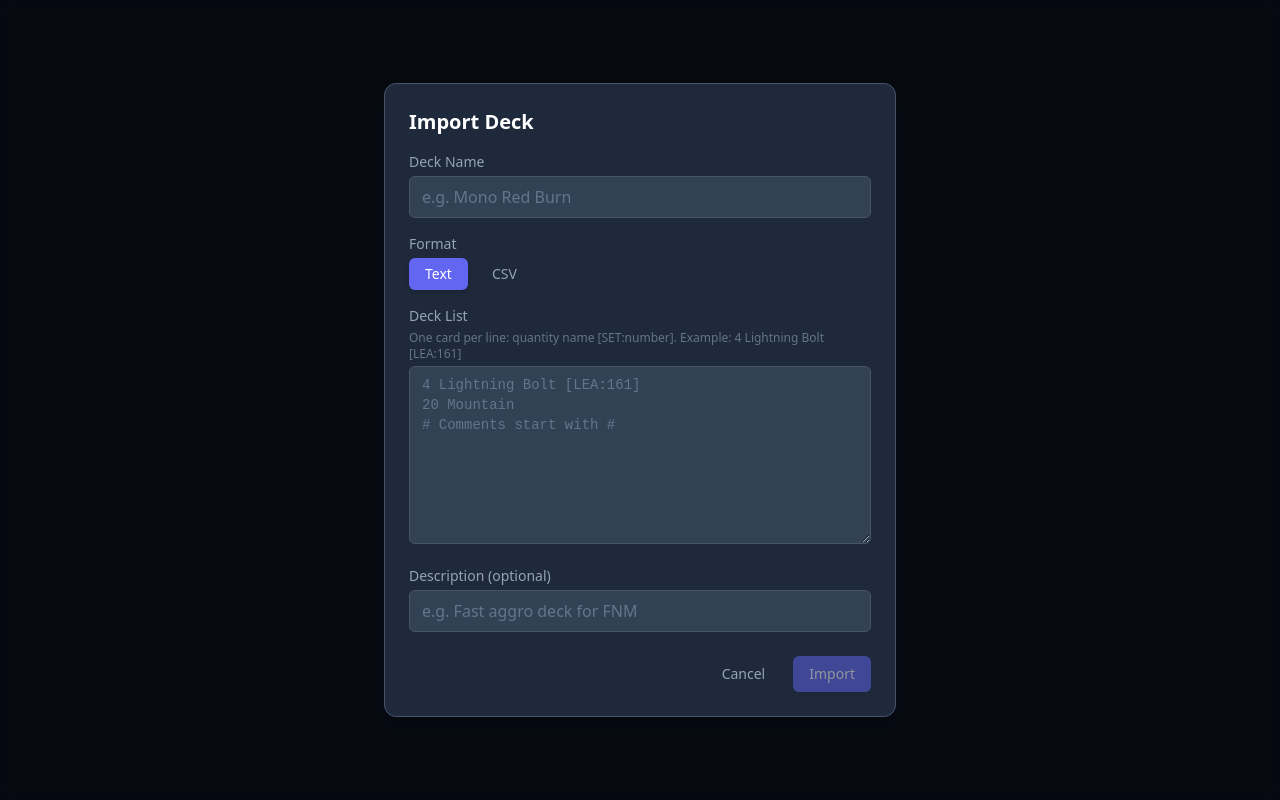
Test: DeckImportModal › shows error on API failure
The image size is (1280, 800).
In the field with test id "deck-name-input": x=640, y=197 409,176 -> 871,218, type "My Deck"
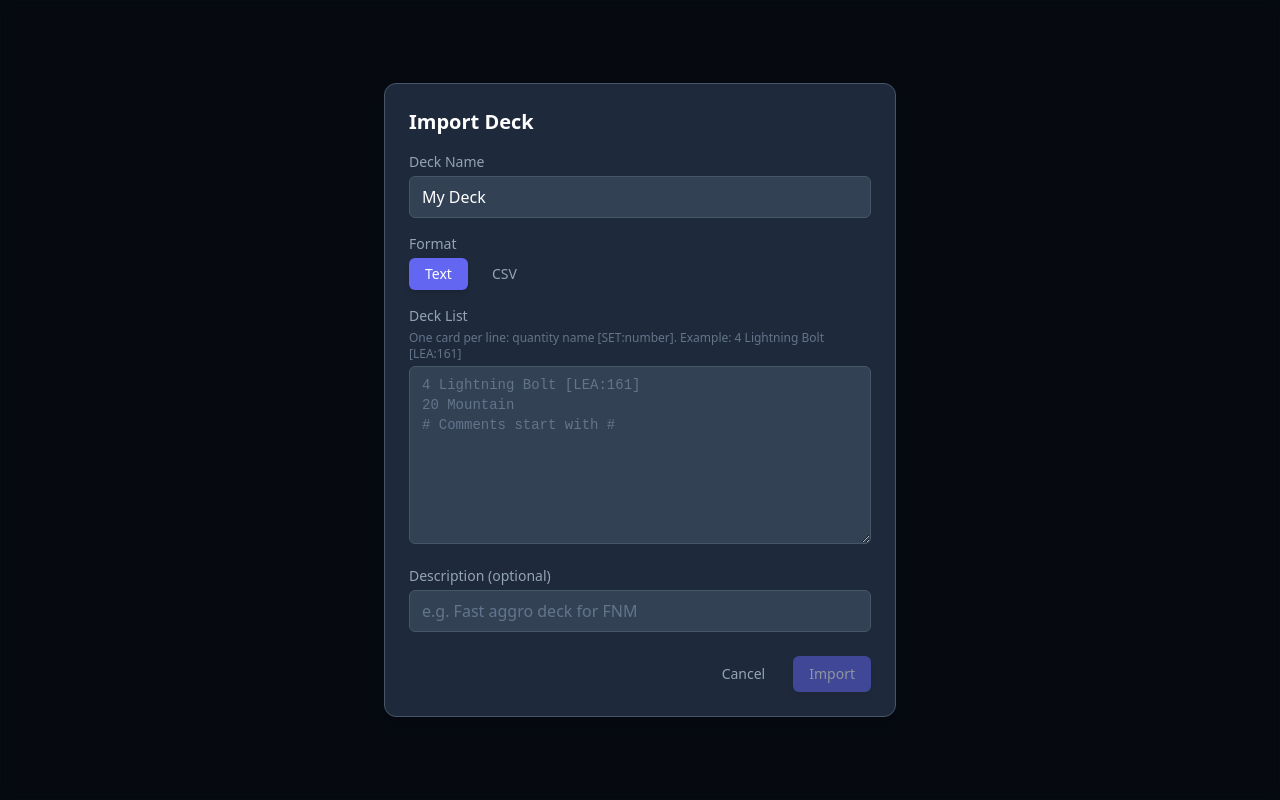
Replace the text in the text box with test id "deck-content-input" with "4 Bolt": x=640, y=455 409,366 -> 871,544
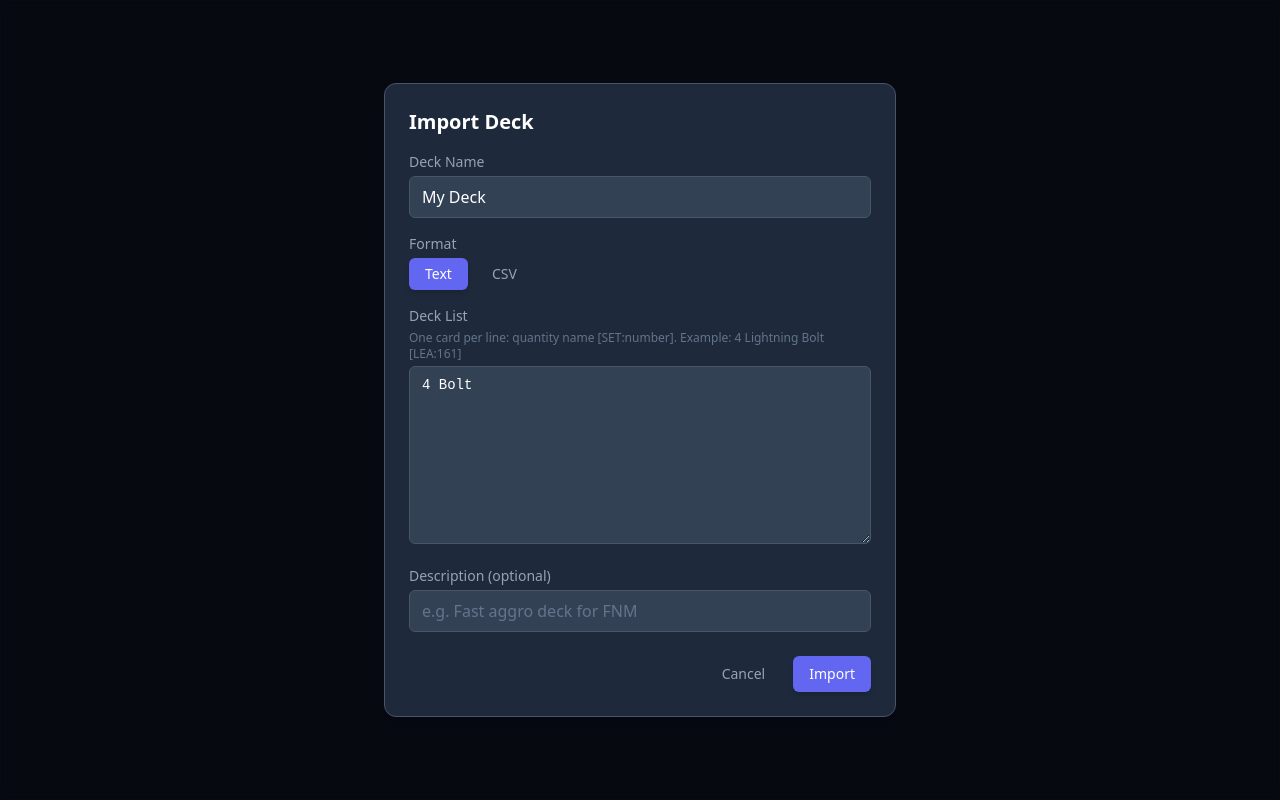
Click the button with test id "submit-import-btn": x=832, y=674 793,656 -> 871,692
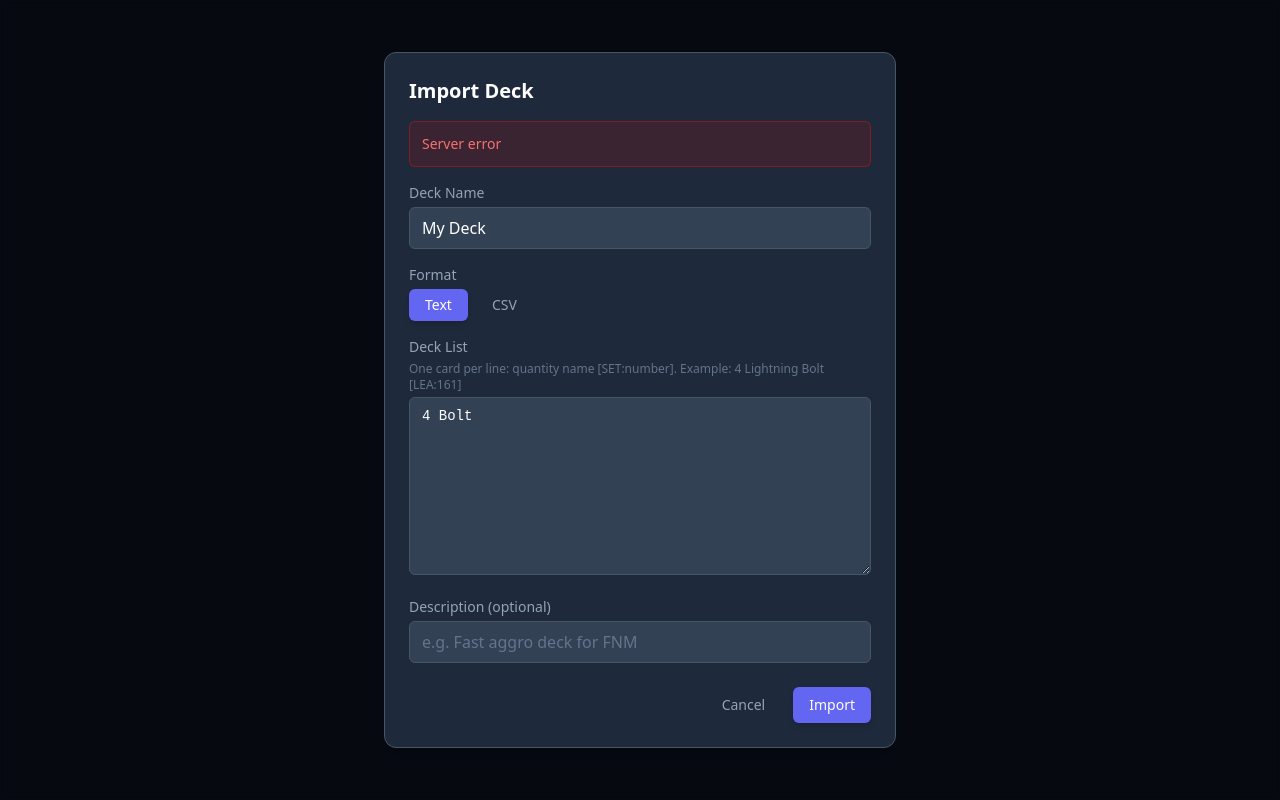
Now the text "Server error" is shown, box 409,121 -> 871,167
